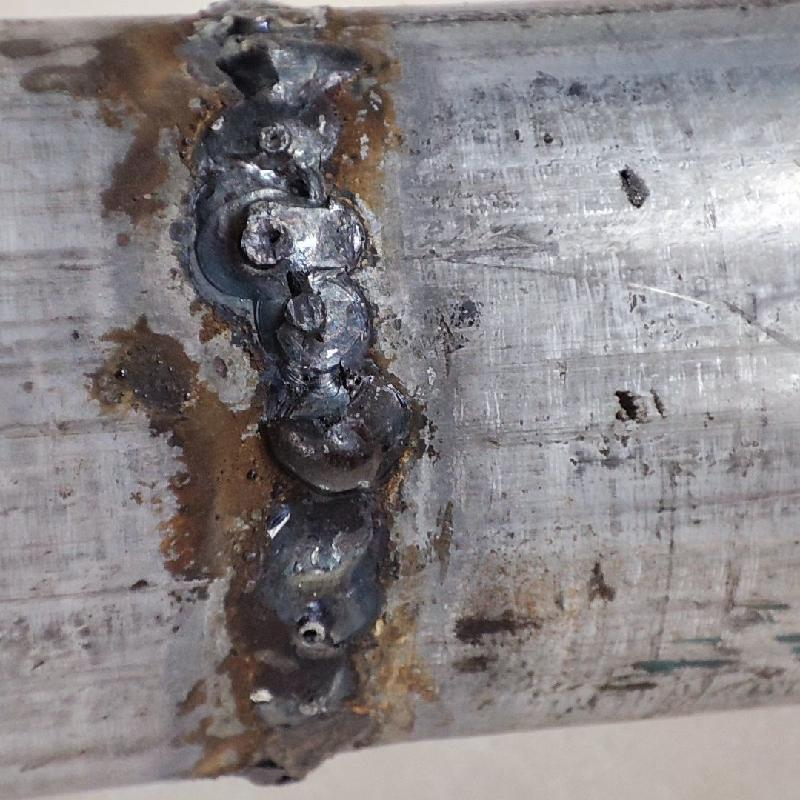Surface_pores: (236, 220, 301, 266), (293, 612, 328, 650), (254, 117, 287, 151)
Weld: (238, 402, 402, 498)
wrong_size: (179, 0, 373, 377), (267, 506, 392, 755)
